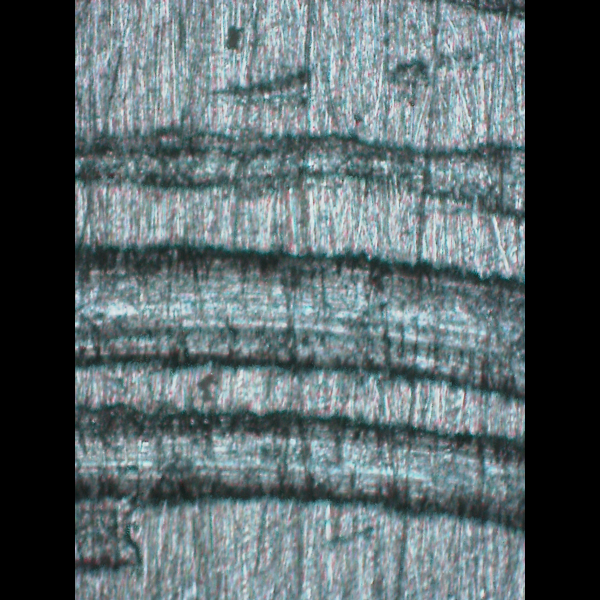d: (74, 96, 523, 554)
